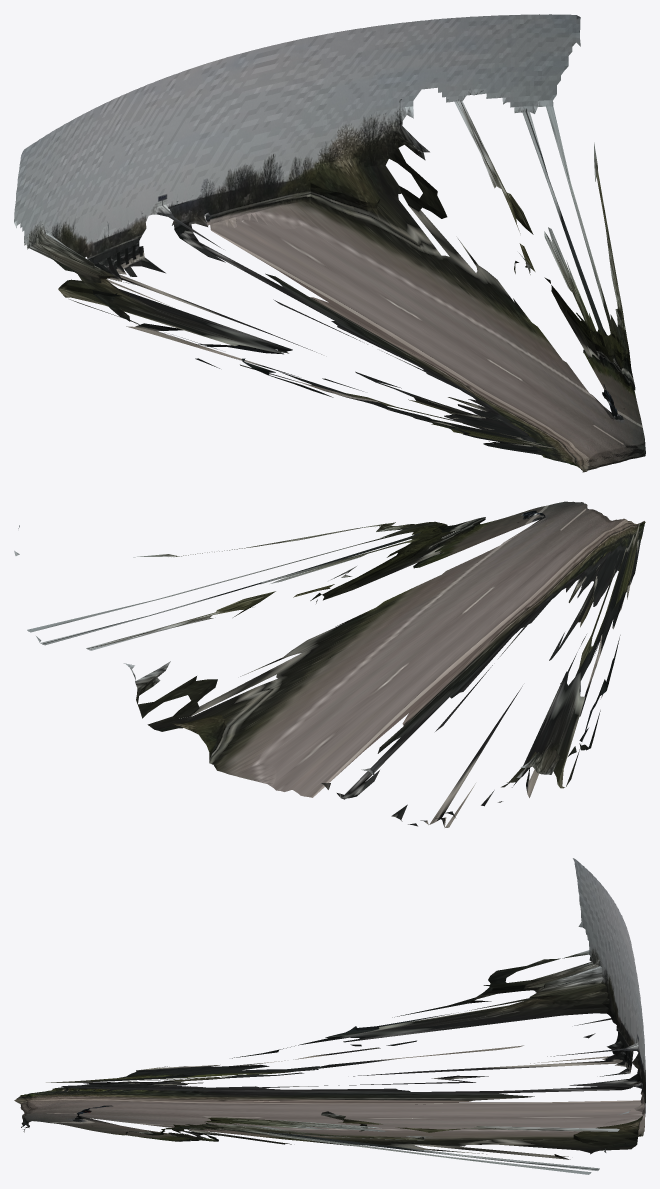
The picture shows the model from 3 angles, top to bottom: view 1: azimuth 30°, elevation 25°; view 2: azimuth 150°, elevation 25°; view 3: azimuth 270°, elevation 25°; orthographic projection. The views are drawn at different scales.
Parts seen in each view (by area): view 1: defaultobject; view 2: defaultobject; view 3: defaultobject.
Part boxes in pixels (x1=…): defaultobject: x1=14, y1=14, x2=645, y2=472; defaultobject: x1=14, y1=501, x2=645, y2=827; defaultobject: x1=14, y1=858, x2=645, y2=1174.
Bounding box in the file's own units: 40.89 × 13.09 × 44.74.
Materials: 1 (1 with a texture image).
